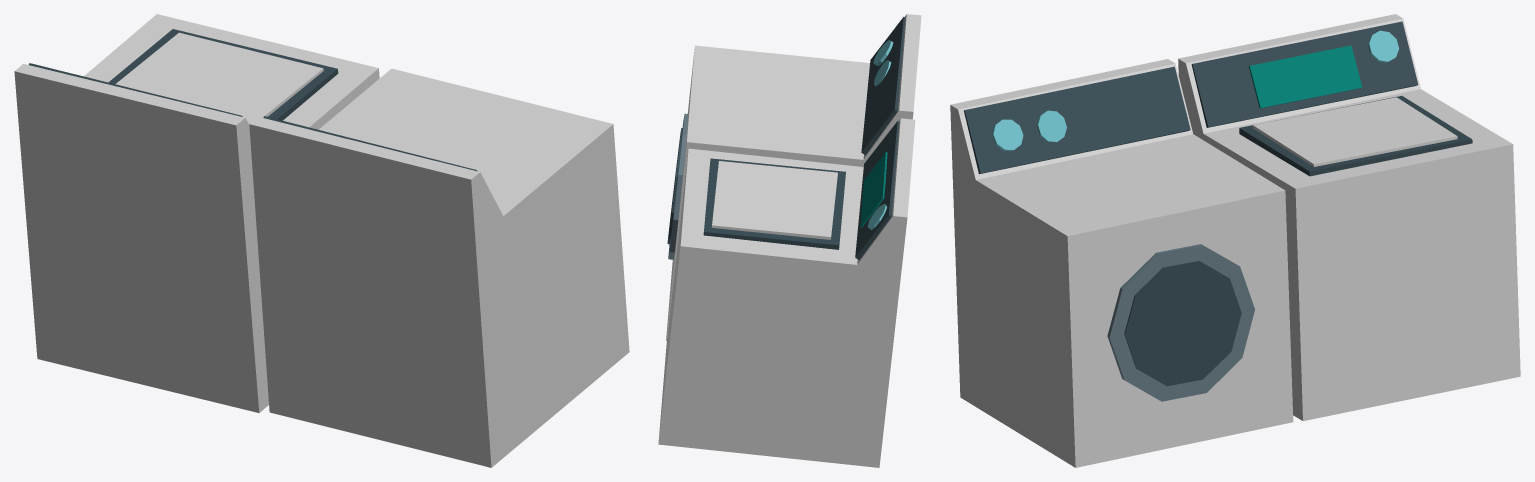
The model's file is washer_dryer.gltf.
3 renders of one model, left to right at view 1: azimuth 30°, elevation 25°; view 2: azimuth 150°, elevation 25°; view 3: azimuth 270°, elevation 25°, orthographic. The views are drawn at different scales.
Visible parts, largest first — view 1: node_MeshObject1202940672-PolyPaper21; view 2: node_MeshObject1202940672-PolyPaper21; view 3: node_MeshObject1202940672-PolyPaper21.
Boxes of the visible parts, x1,y1,x2,y2 form: node_MeshObject1202940672-PolyPaper21: (14,14,629,467); node_MeshObject1202940672-PolyPaper21: (658,14,921,467); node_MeshObject1202940672-PolyPaper21: (950,14,1520,467).
Size of the model in its own units: 0.2944 by 0.1964 by 0.3471.
